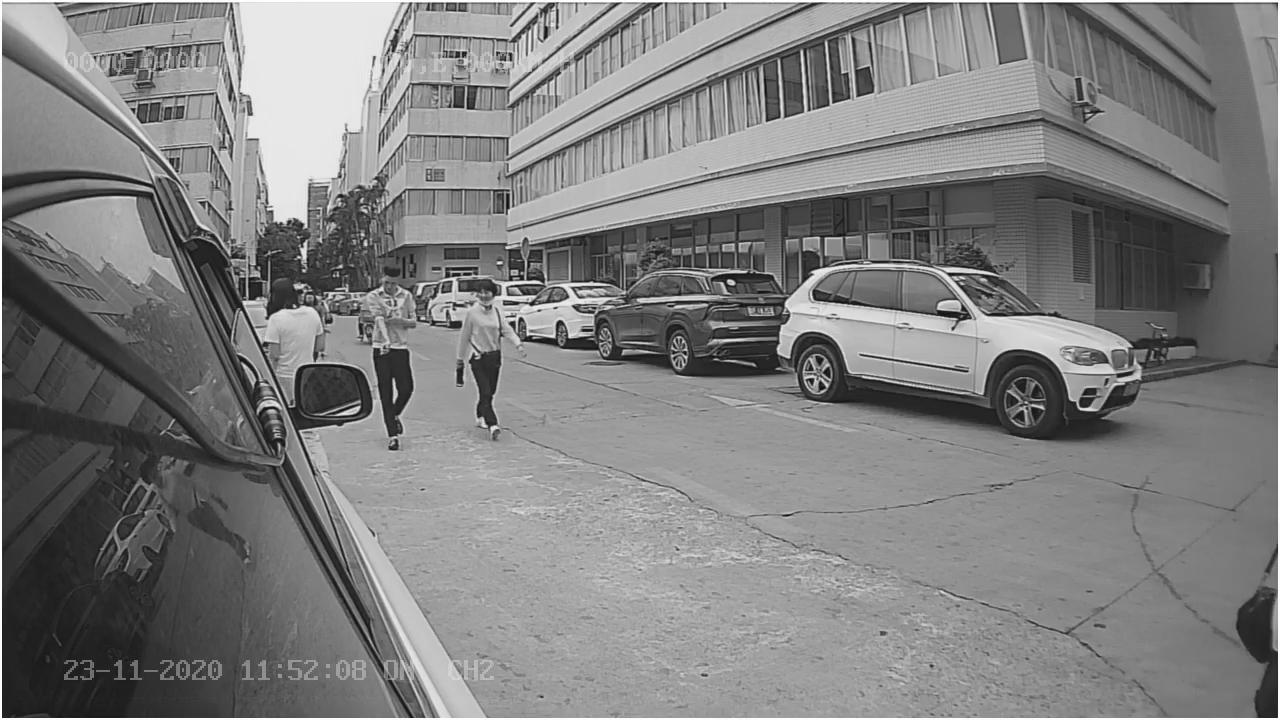person: (455, 274, 522, 442), (363, 263, 425, 362)
